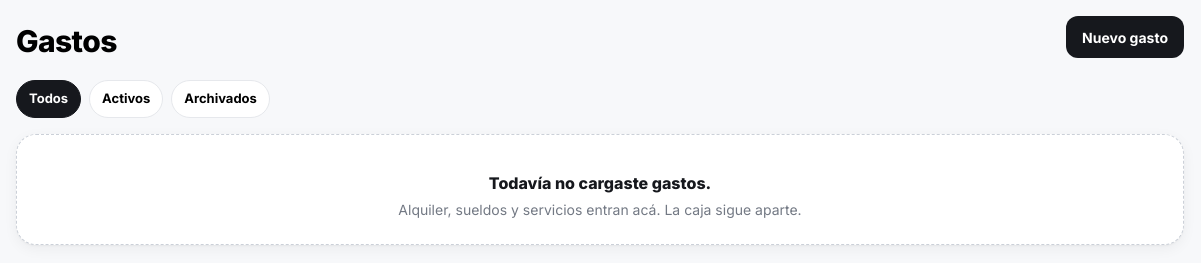
Test case: gastos › logs failed archive loads and keeps a neutral empty list without alerts
Click the button "Archivados" at (221, 99), box [171,80,270,118]
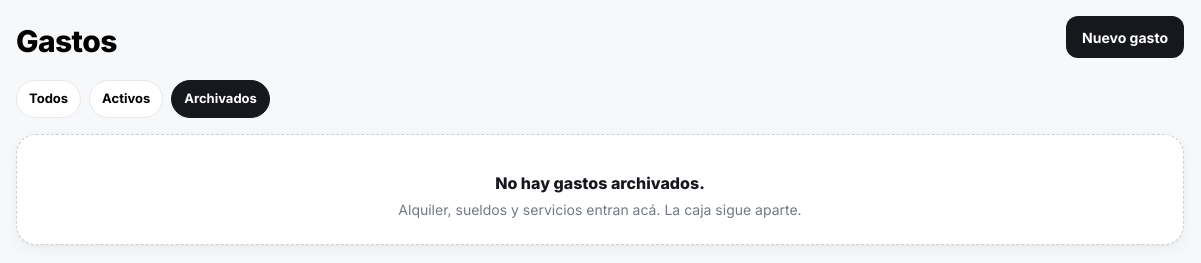
Now the heading "No hay gastos archivados." is shown, box [495,173,705,193]
